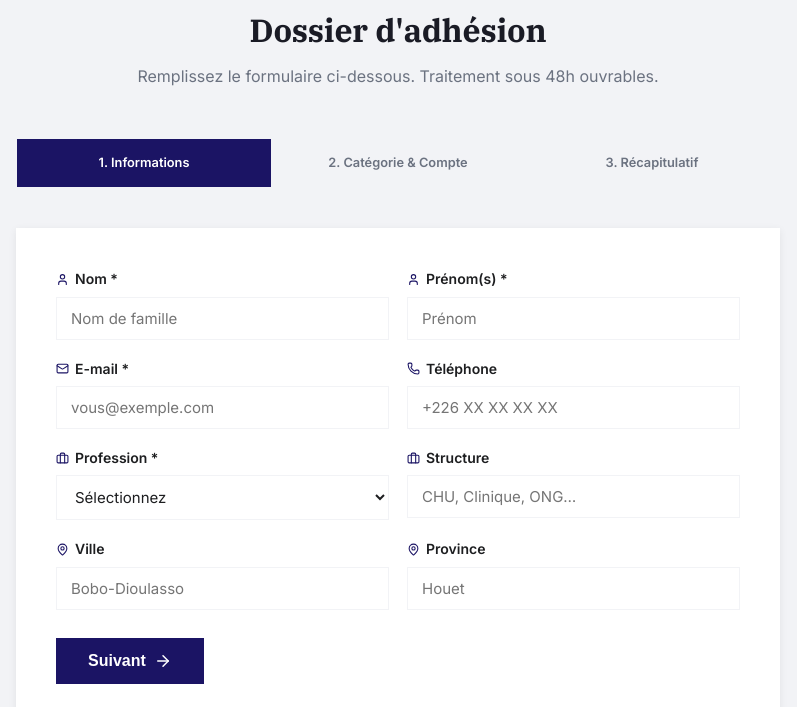
Test case: AdhesionPage › shows validation error when required fields empty
The image size is (797, 707).
# Try to go to step 2 without filling required fields
Click the button "Suivant" at [130, 661], box [56,638,204,684]
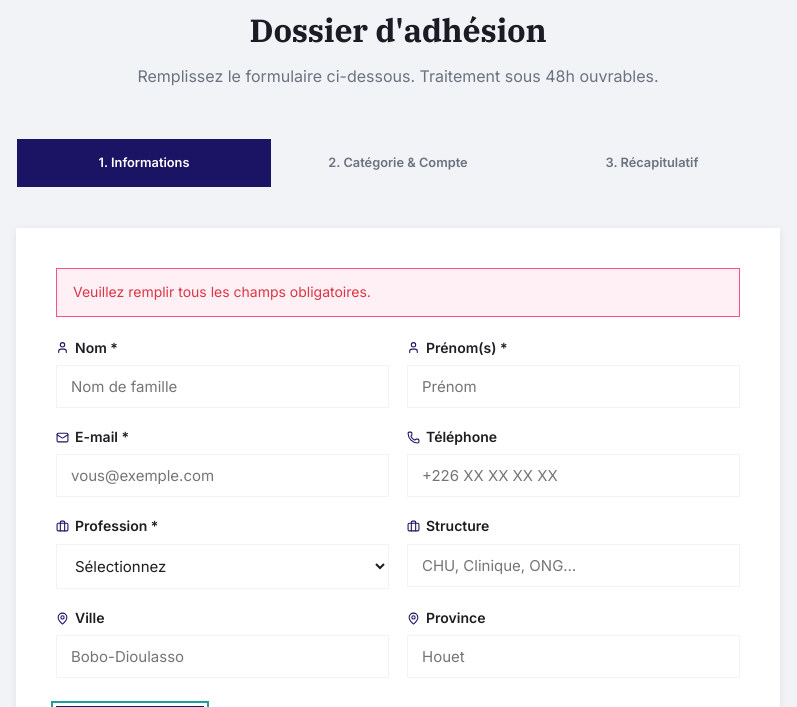
Expected: the text "Veuillez remplir tous les champs obligatoires." is shown, [56,268,740,317]
